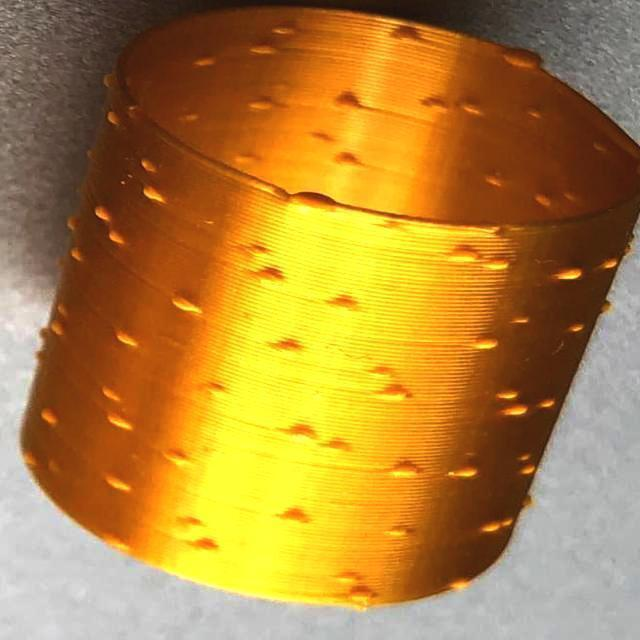zits: (314, 428, 358, 462), (276, 416, 315, 448), (450, 94, 488, 122), (176, 288, 210, 318), (372, 382, 420, 403), (104, 413, 140, 441), (387, 23, 426, 48), (323, 294, 367, 316), (268, 508, 308, 532), (440, 242, 480, 266), (101, 529, 137, 555), (331, 90, 361, 121), (504, 48, 542, 72), (507, 452, 543, 477), (330, 150, 370, 172), (99, 465, 132, 491), (542, 268, 589, 286), (106, 328, 148, 348), (267, 336, 302, 360), (250, 262, 282, 288), (134, 184, 174, 204), (582, 252, 618, 274), (227, 146, 260, 170), (158, 445, 190, 469), (450, 461, 484, 483), (388, 456, 419, 480), (478, 168, 506, 194), (192, 534, 222, 558), (377, 523, 413, 543), (474, 518, 510, 538), (260, 18, 294, 38), (416, 95, 448, 116), (528, 390, 558, 412), (197, 380, 230, 400), (192, 51, 218, 76), (472, 332, 501, 354), (499, 403, 534, 421), (176, 110, 212, 126), (41, 318, 66, 341), (99, 382, 122, 407), (526, 188, 552, 210), (87, 202, 113, 224), (252, 92, 278, 114), (131, 151, 157, 173), (243, 41, 276, 58), (342, 584, 373, 602), (484, 256, 514, 274), (62, 241, 86, 263), (35, 406, 57, 429), (520, 101, 544, 122), (100, 108, 122, 130), (102, 226, 126, 246), (448, 574, 471, 592), (496, 387, 520, 402)
